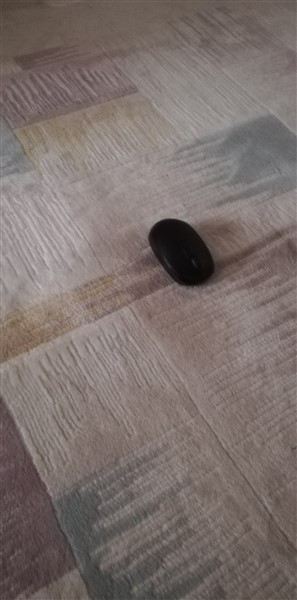mouse: (143, 216, 221, 290)
